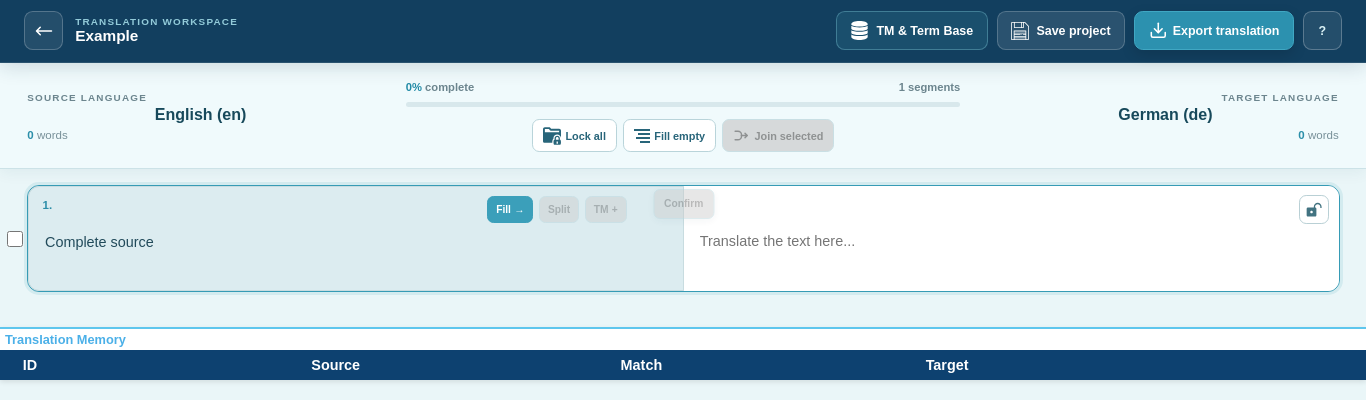
Test: real CAT application route › enables TM+ only for complete bilingual units
This screenshot has width=1366, height=400.
Check: the element showing "Fill → Split TM + 1. Complete source Confirm" is shown, box [27,185,1341,292]
Check: the button "TM +" is disabled, box [585,196,627,223]
Type "Ziel" into the text box with placeholder "Translate the text here..." at (1012, 239), box [684,186,1340,291]
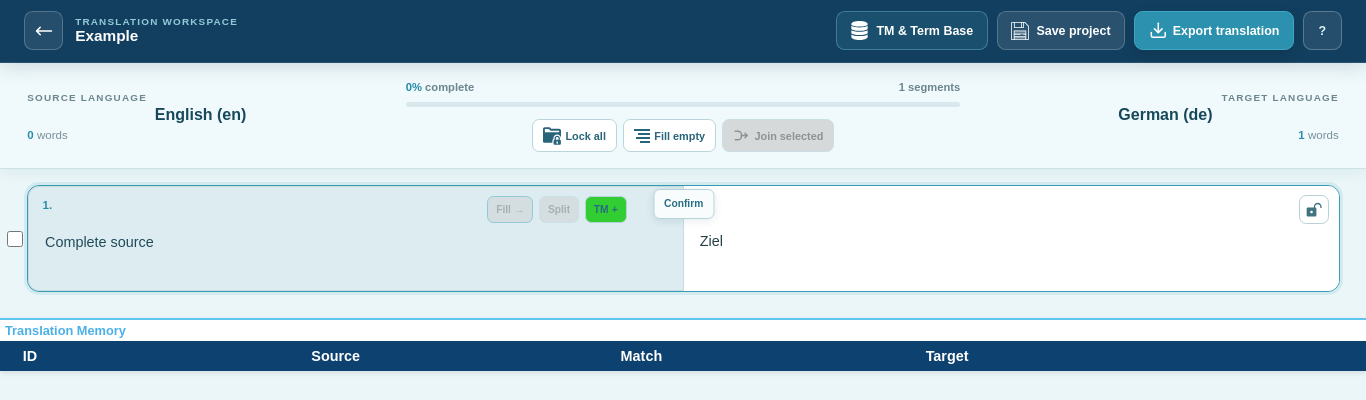
Check: the button "TM +" is enabled, box [585,196,627,223]
